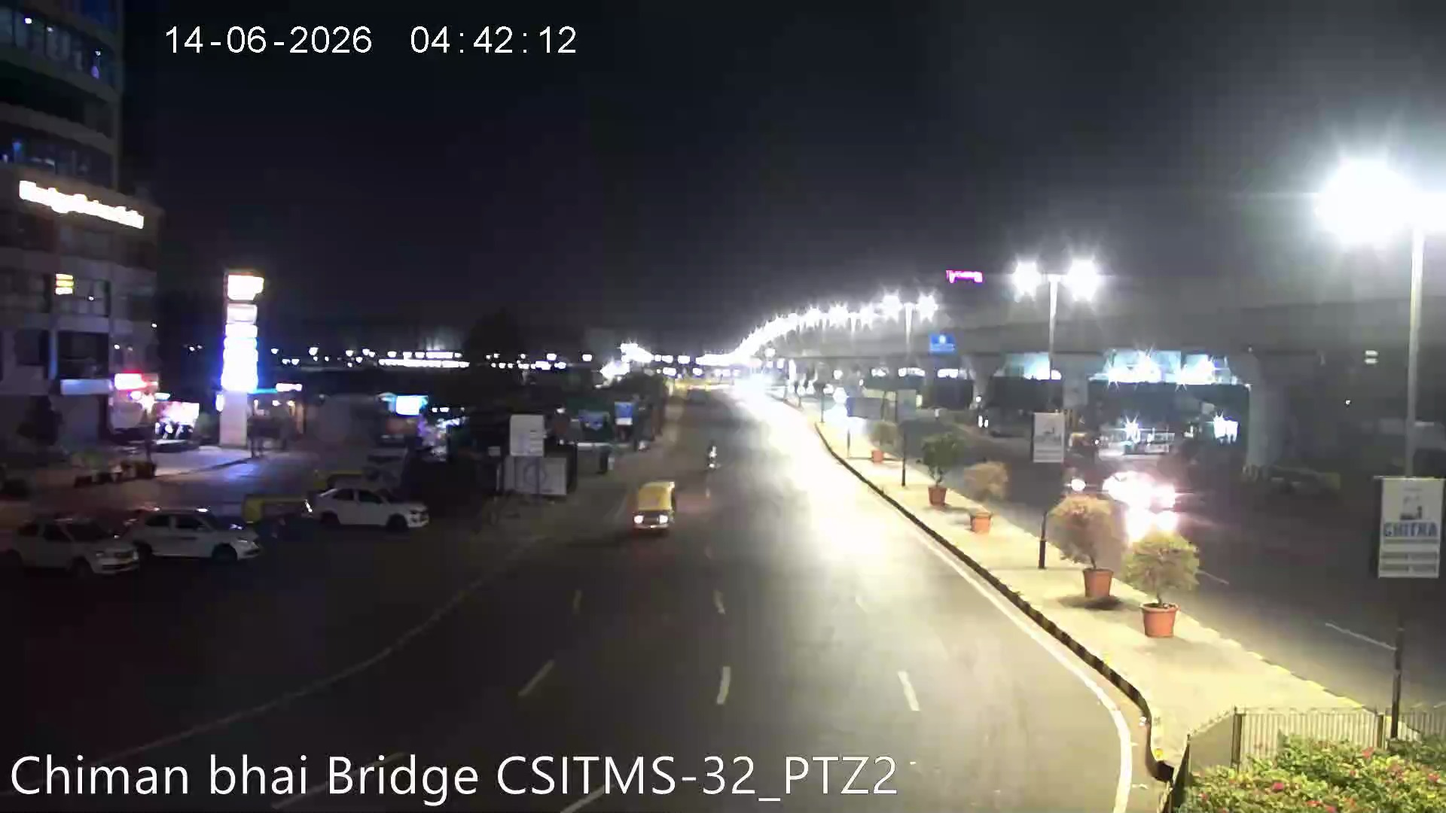auto_rickshaw: (628, 475, 680, 537)
car: (1, 509, 143, 581), (122, 500, 265, 568), (302, 475, 431, 534), (1099, 465, 1182, 524)
two_wheeler: (1059, 457, 1097, 502), (701, 435, 726, 477)
